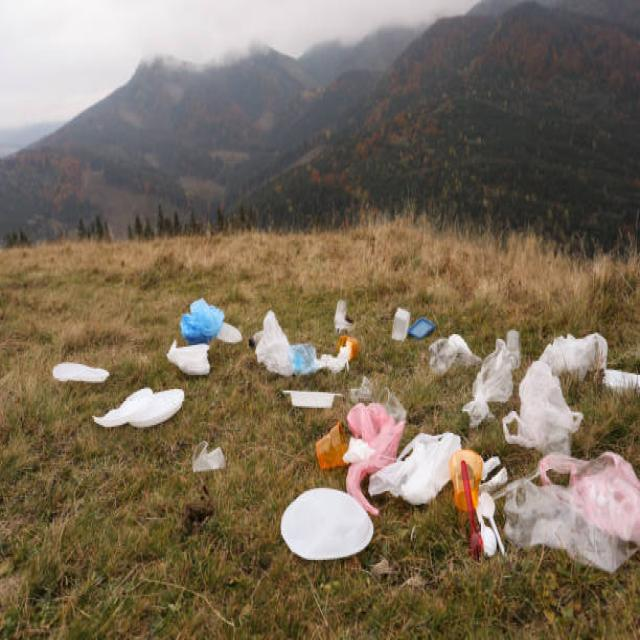plastic: (249, 301, 628, 587), (50, 284, 220, 428)
